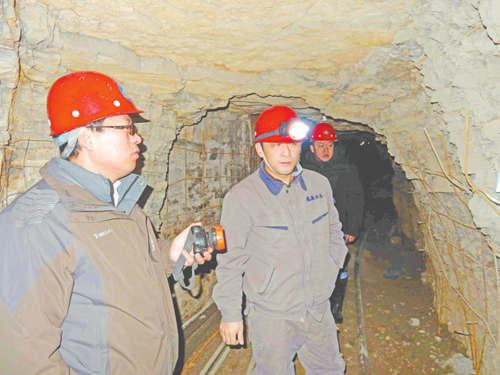helmet: (46, 71, 144, 136), (255, 105, 306, 143), (312, 122, 339, 143)
